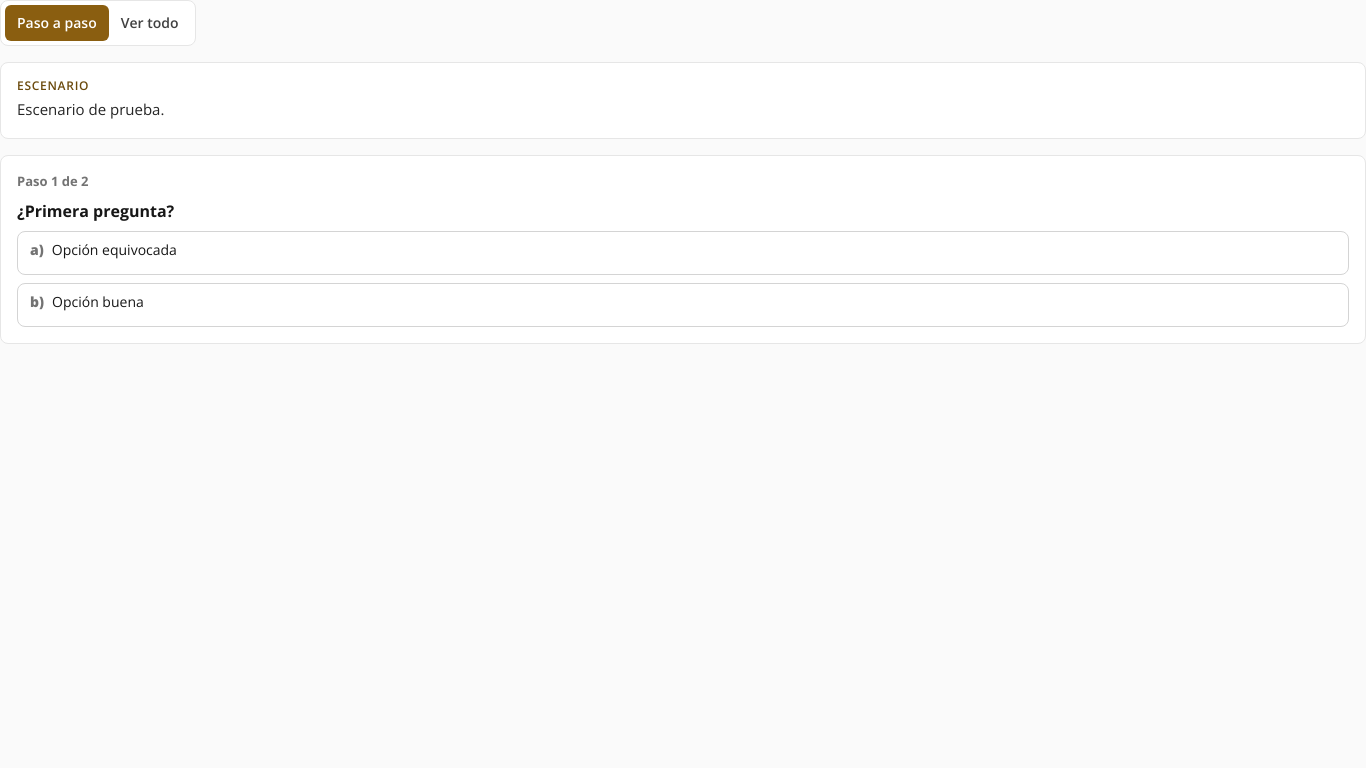
Test: Casos guiados: la pantalla › «Ver todo» enseña todos los pasos con todas las respuestas
This screenshot has width=1366, height=768.
What coordinates should you click on to do the following:
click the button "Ver todo"
I would click on:
 (150, 23)
Its box is x1=109 y1=5 x2=190 y2=41.
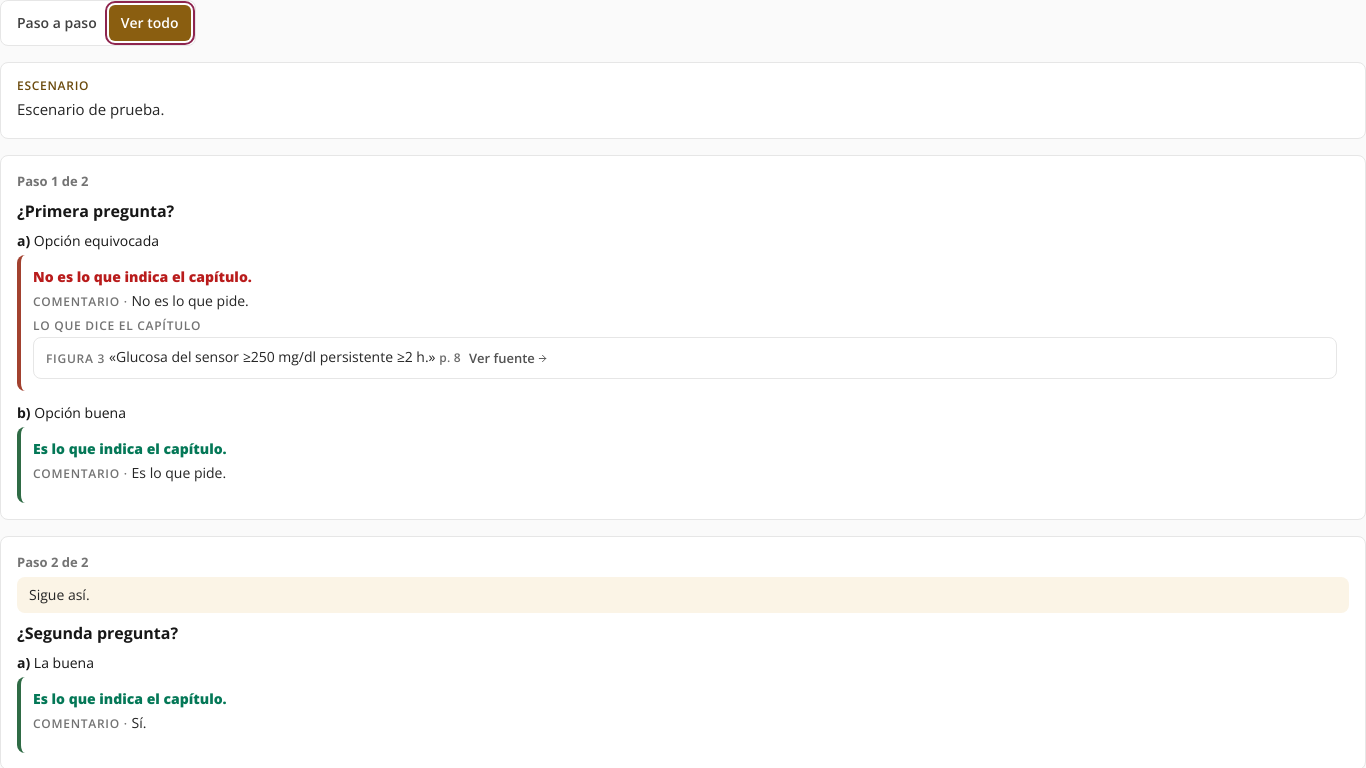
Expected: the heading "¿Segunda pregunta?" is shown, x1=17 y1=622 x2=178 y2=644
Expected: the text "Es lo que indica el capítulo." is shown 2 times, x1=33 y1=439 x2=227 y2=458; x1=33 y1=689 x2=227 y2=708
